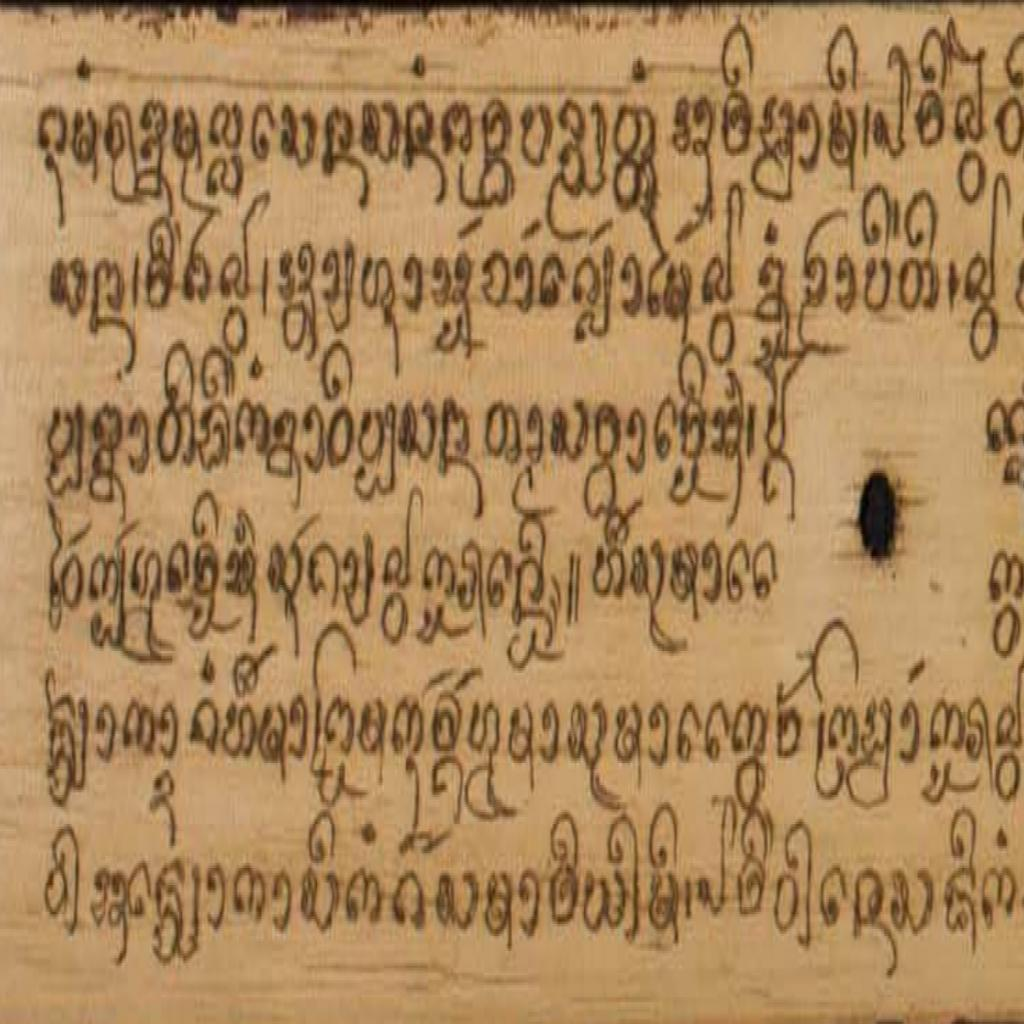LN001: (344, 863, 385, 932)
